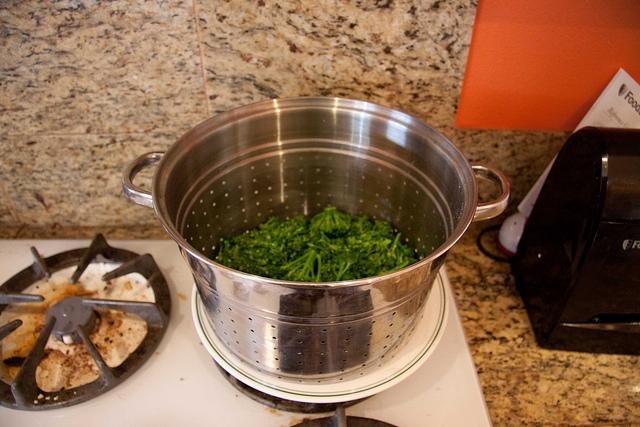broccoli: (268, 249, 321, 282), (308, 207, 352, 237), (331, 251, 363, 282), (357, 220, 394, 241), (381, 232, 402, 268), (270, 220, 300, 243), (246, 230, 278, 250), (315, 231, 342, 253), (358, 237, 392, 254), (358, 250, 382, 270), (222, 240, 238, 266), (292, 234, 312, 251), (240, 252, 248, 259)
